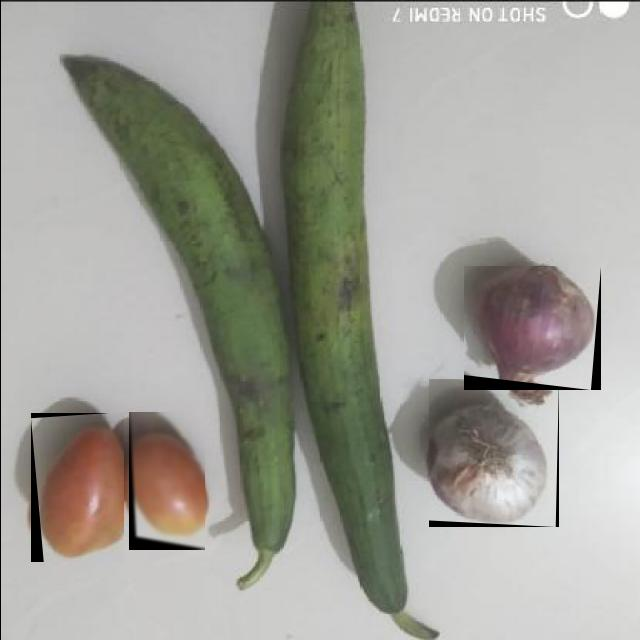onion: (428, 379, 558, 527), (463, 266, 600, 390)
tomato: (28, 414, 122, 564), (128, 412, 204, 550)
